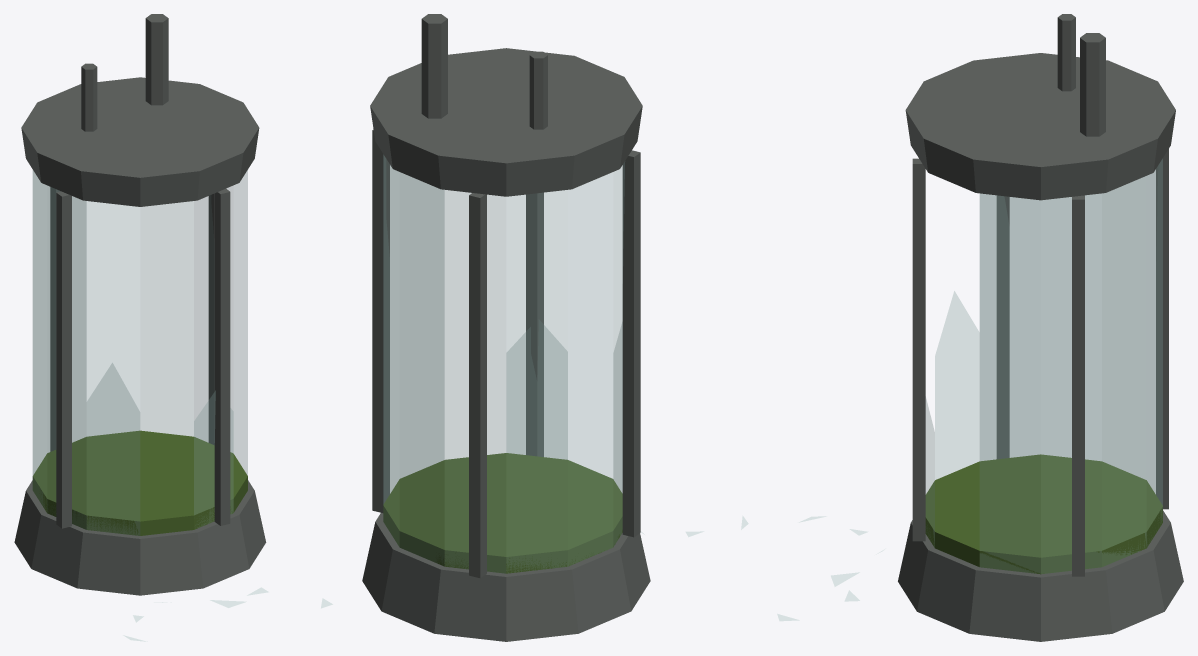
The model's file is glass_tank_broken.glb.
3 views of the same model, side by side, from view 1: azimuth 30°, elevation 25°; view 2: azimuth 150°, elevation 25°; view 3: azimuth 270°, elevation 25° (orthographic). The views are drawn at different scales.
Visible parts, largest first — view 1: glass_tank_broken; view 2: glass_tank_broken; view 3: glass_tank_broken.
Part boxes in pixels (<box>): glass_tank_broken: <box>14,14,332,641</box>; glass_tank_broken: <box>362,14,748,641</box>; glass_tank_broken: <box>777,14,1183,641</box>.
Bounding box in the file's own units: 1.11 × 2.4 × 1.56.
